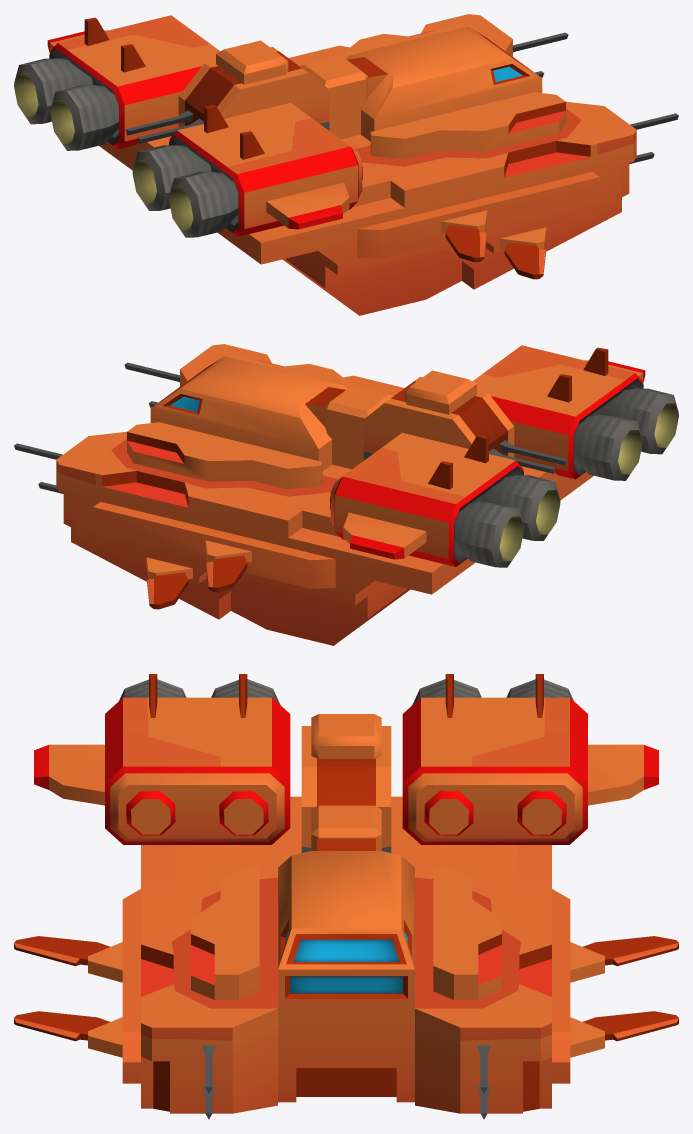
Rendered from EnemyShip6.fbx.
3 renders of one model, top to bottom at view 1: azimuth 30°, elevation 25°; view 2: azimuth 150°, elevation 25°; view 3: azimuth 270°, elevation 25°, orthographic. The views are drawn at different scales.
Visible parts, largest first — view 1: Enemy6Parts.001, Enemy6Parts.002, Enemy6Parts.004, Enemy6Parts.005, Enemy6Parts.003; view 2: Enemy6Parts.001, Enemy6Parts.005, Enemy6Parts.003, Enemy6Parts.002, Enemy6Parts.004; view 3: Enemy6Parts.001, Enemy6Parts.003, Enemy6Parts.004, Enemy6Parts.002, Enemy6Parts.005.
Part boxes in pixels (left/top/right/bottom): Enemy6Parts.001: left=47, top=14, right=678, bottom=315; Enemy6Parts.002: left=169, top=172, right=238, bottom=237; Enemy6Parts.004: left=50, top=85, right=118, bottom=150; Enemy6Parts.005: left=14, top=58, right=92, bottom=124; Enemy6Parts.003: left=132, top=145, right=211, bottom=210; Enemy6Parts.001: left=14, top=344, right=645, bottom=645; Enemy6Parts.005: left=454, top=502, right=523, bottom=567; Enemy6Parts.003: left=574, top=415, right=642, bottom=480; Enemy6Parts.002: left=600, top=388, right=678, bottom=454; Enemy6Parts.004: left=481, top=475, right=560, bottom=540; Enemy6Parts.001: left=14, top=674, right=678, bottom=1119; Enemy6Parts.003: left=211, top=679, right=280, bottom=704; Enemy6Parts.004: left=412, top=679, right=481, bottom=704; Enemy6Parts.002: left=119, top=679, right=186, bottom=700; Enemy6Parts.005: left=506, top=679, right=573, bottom=700.
Size of the model in its own units: 6.54 by 5.83 by 2.65.
